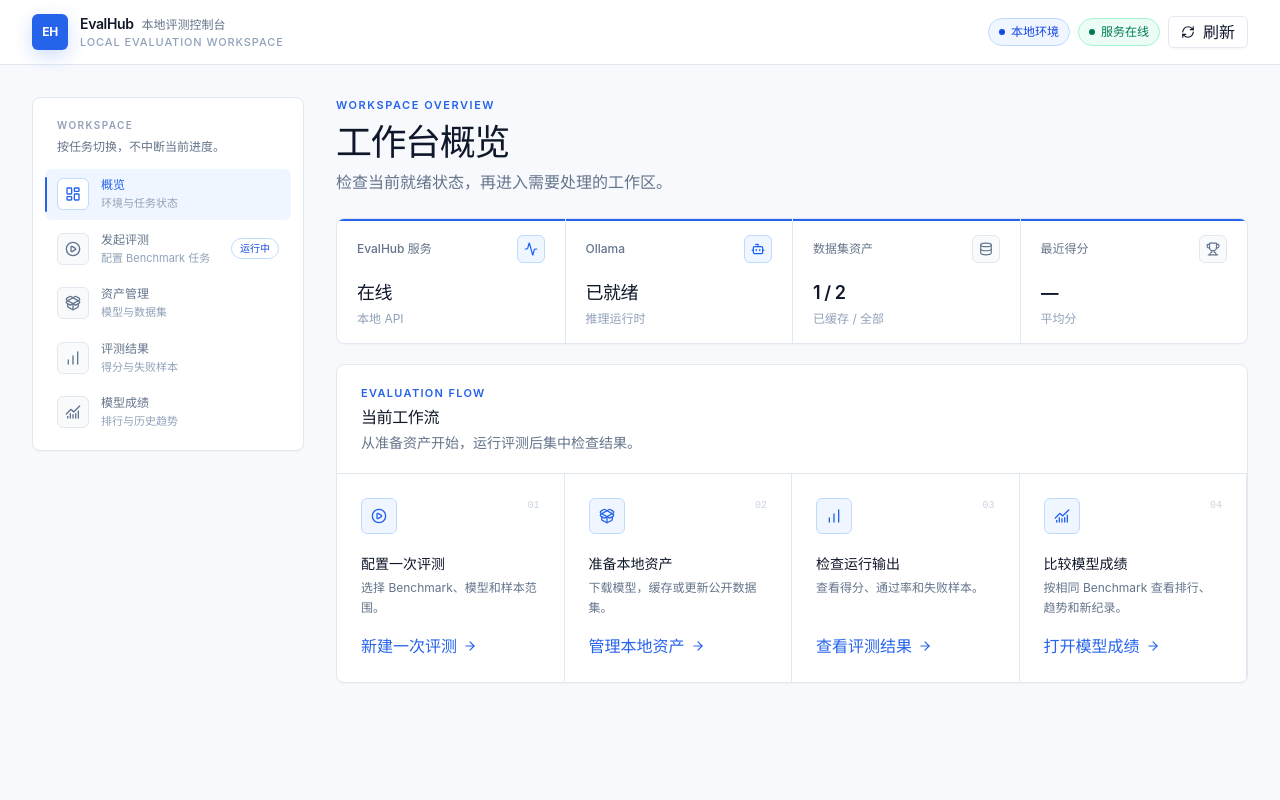
Test: EvalHub console › labels suite tasks without presenting the first benchmark as the task name
Click the button with aria-label "打开评测结果页面".
click(168, 358)  # box [45,332,291,383]
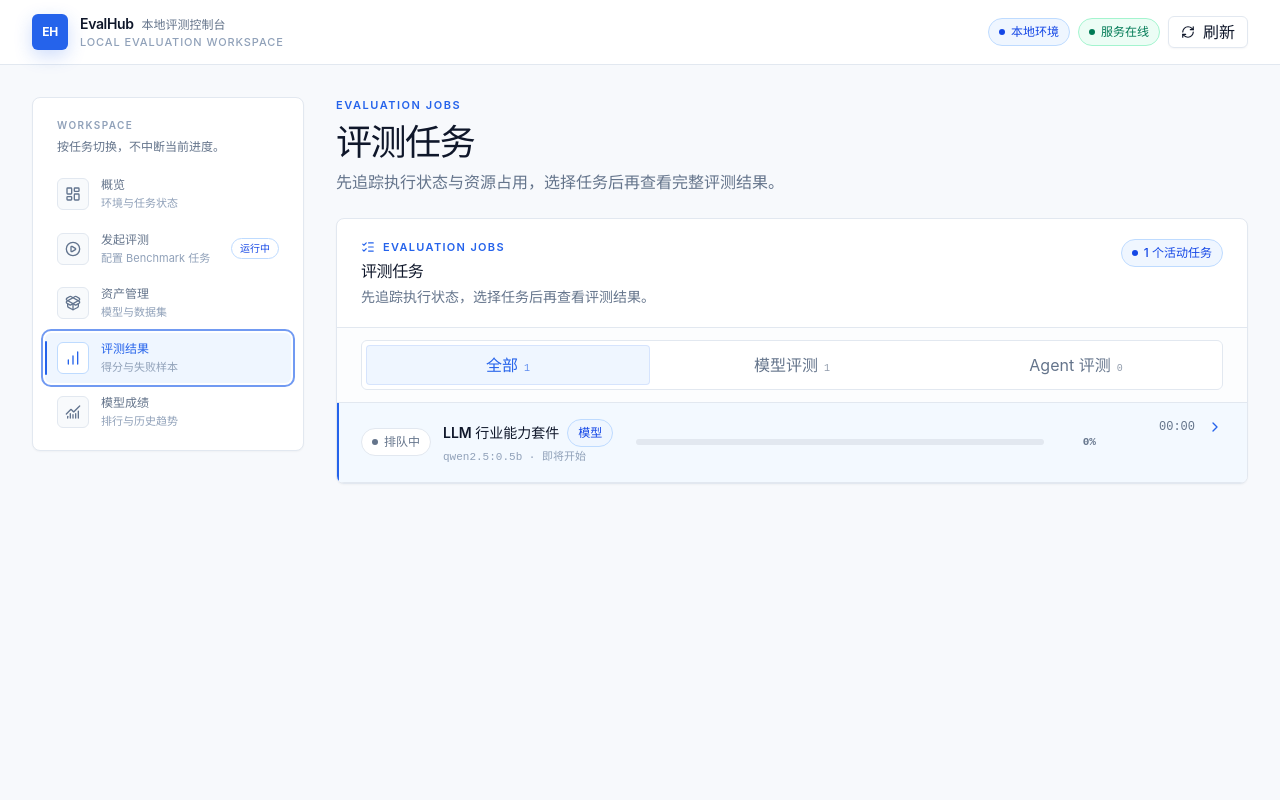
Check: the text "LLM 行业能力套件" is shown, box [443,423,559,443]
